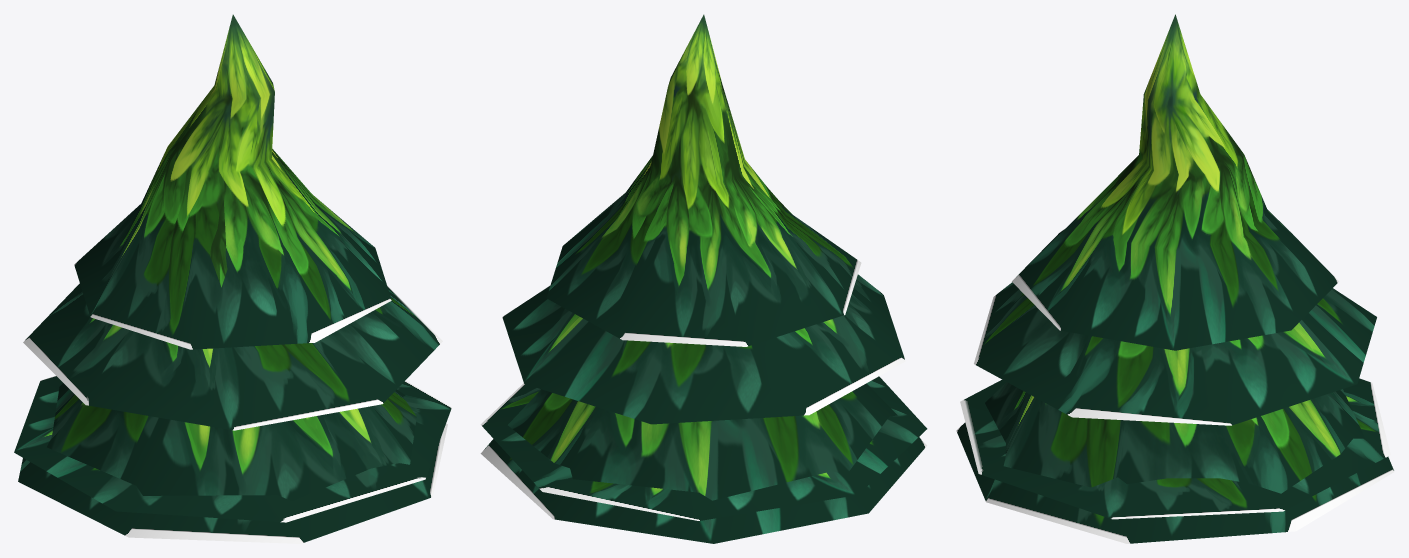
The model's file is SM_ENV_TREE_village_LOD0.glb.
3 renders of one model, left to right at view 1: azimuth 30°, elevation 25°; view 2: azimuth 150°, elevation 25°; view 3: azimuth 270°, elevation 25°, orthographic.
Visible parts, largest first — view 1: SM_ENV_TREE_village_LOD0_EXPORT; view 2: SM_ENV_TREE_village_LOD0_EXPORT; view 3: SM_ENV_TREE_village_LOD0_EXPORT.
Boxes of the visible parts, box(x1,y1,x2,y2) form: SM_ENV_TREE_village_LOD0_EXPORT: box(14, 14, 451, 543); SM_ENV_TREE_village_LOD0_EXPORT: box(480, 14, 927, 543); SM_ENV_TREE_village_LOD0_EXPORT: box(956, 14, 1394, 543).
Size of the model in its own units: 4.71 by 5.94 by 4.71.
Materials: 2 (2 with a texture image).
